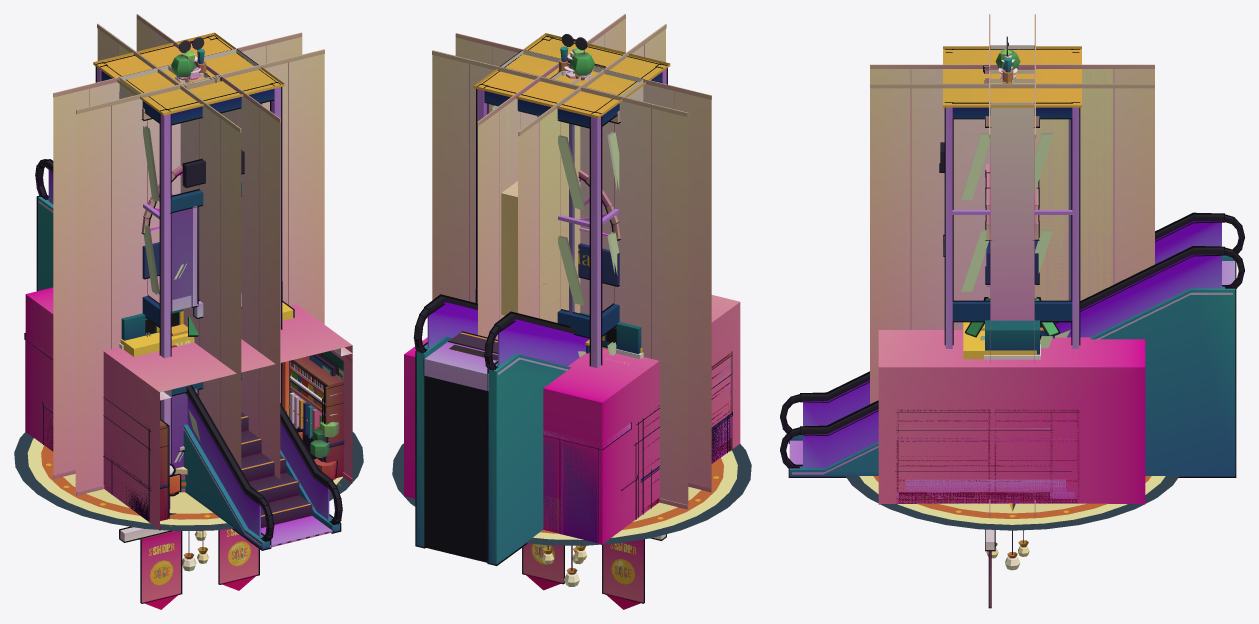
The model's file is fps-kit-mall.glb.
3 renders of one model, left to right at view 1: azimuth 30°, elevation 25°; view 2: azimuth 150°, elevation 25°; view 3: azimuth 270°, elevation 25°, orthographic. The views are drawn at different scales.
Visible parts, largest first — view 1: KIT_MALL_Corner_NW, KIT_MALL_Corner_SW, KIT_MALL_Room_Atelier, KIT_MALL_Landmark_ElevatorShaft, KIT_MALL_Escalator, KIT_MALL_Corner_SE, KIT_MALL_Corner_NE, KIT_MALL_Inlay_Rose, KIT_MALL_SkyTrussBanA, KIT_MALL_GateFrame, KIT_MALL_Room_Leather, KIT_MALL_Room_Books (+8 smaller); view 2: KIT_MALL_Escalator, KIT_MALL_Corner_SW, KIT_MALL_Room_Atelier, KIT_MALL_Corner_NW, KIT_MALL_Landmark_ElevatorShaft, KIT_MALL_Corner_SE, KIT_MALL_Blank_Ad, KIT_MALL_Corner_NE, KIT_MALL_Inlay_Rose, KIT_MALL_Room_Bakery, KIT_MALL_SkyTrussBanA, KIT_MALL_GateFrame (+6 smaller); view 3: KIT_MALL_Room_Atelier, KIT_MALL_Escalator, KIT_MALL_Corner_SW, KIT_MALL_Landmark_ElevatorShaft, KIT_MALL_Corner_NW, KIT_MALL_GateFrame, KIT_MALL_Blank_Ad, KIT_MALL_Inlay_Rose, KIT_MALL_Room_Signal, KIT_MALL_Corner_SE, KIT_MALL_Room_Books, KIT_MALL_Corner_NE (+3 smaller).
Boxes of the visible parts, x1,y1,x2,y2 form: KIT_MALL_Corner_NW: [75, 14, 219, 495]; KIT_MALL_Corner_SW: [53, 59, 280, 479]; KIT_MALL_Room_Atelier: [24, 287, 352, 530]; KIT_MALL_Landmark_ElevatorShaft: [93, 32, 284, 474]; KIT_MALL_Escalator: [35, 159, 342, 550]; KIT_MALL_Corner_SE: [157, 32, 302, 468]; KIT_MALL_Corner_NE: [97, 23, 324, 324]; KIT_MALL_Inlay_Rose: [14, 432, 363, 531]; KIT_MALL_SkyTrussBanA: [138, 529, 259, 609]; KIT_MALL_GateFrame: [119, 48, 282, 349]; KIT_MALL_Room_Leather: [108, 383, 343, 520]; KIT_MALL_Room_Books: [103, 351, 343, 522]; KIT_MALL_Escalator: [413, 294, 589, 565]; KIT_MALL_Corner_SW: [540, 14, 688, 509]; KIT_MALL_Room_Atelier: [404, 295, 740, 544]; KIT_MALL_Corner_NW: [477, 62, 711, 492]; KIT_MALL_Landmark_ElevatorShaft: [473, 33, 670, 367]; KIT_MALL_Corner_SE: [432, 24, 666, 302]; KIT_MALL_Blank_Ad: [500, 67, 602, 322]; KIT_MALL_Corner_NE: [455, 33, 604, 318]; KIT_MALL_Inlay_Rose: [392, 443, 751, 545]; KIT_MALL_Room_Bakery: [543, 439, 651, 542]; KIT_MALL_SkyTrussBanA: [522, 539, 644, 609]; KIT_MALL_GateFrame: [475, 50, 644, 359]; KIT_MALL_Room_Atelier: [878, 330, 1145, 504]; KIT_MALL_Escalator: [780, 212, 1244, 477]; KIT_MALL_Corner_SW: [870, 14, 1035, 403]; KIT_MALL_Landmark_ElevatorShaft: [939, 46, 1081, 348]; KIT_MALL_Corner_NW: [989, 14, 1154, 300]; KIT_MALL_GateFrame: [984, 45, 1040, 359]; KIT_MALL_Blank_Ad: [987, 69, 1112, 300]; KIT_MALL_Inlay_Rose: [845, 476, 1179, 530]; KIT_MALL_Room_Signal: [905, 479, 1065, 502]; KIT_MALL_Corner_SE: [870, 64, 1035, 517]; KIT_MALL_Room_Books: [896, 409, 1079, 503]; KIT_MALL_Corner_NE: [989, 64, 1154, 517].
Size of the model in its own units: 7.8 by 13.64 by 10.44.
Materials: 1 (1 with a texture image).
